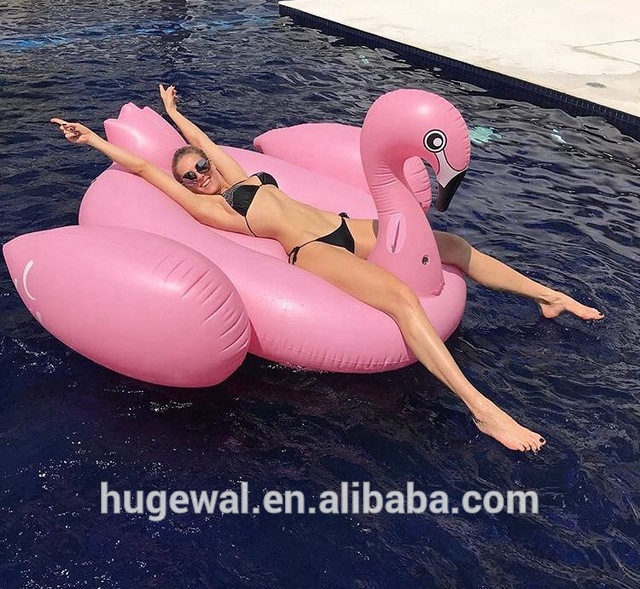Flamingo: (2, 84, 476, 390)
